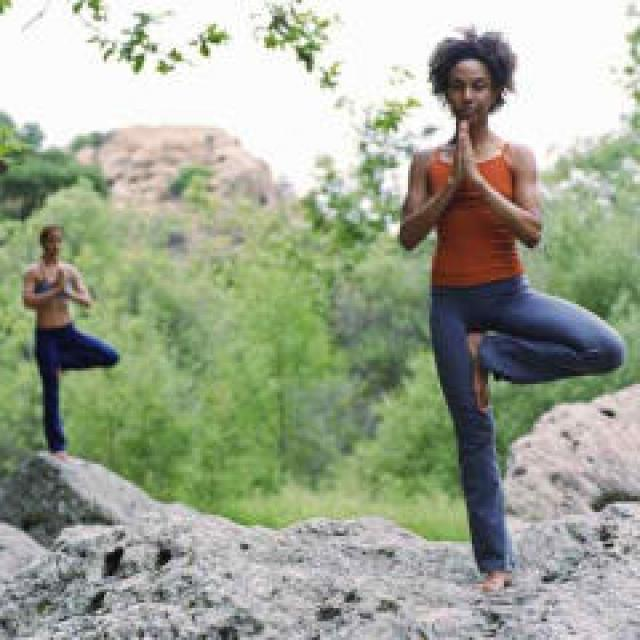yoga-pose tree: (393, 25, 618, 594)
